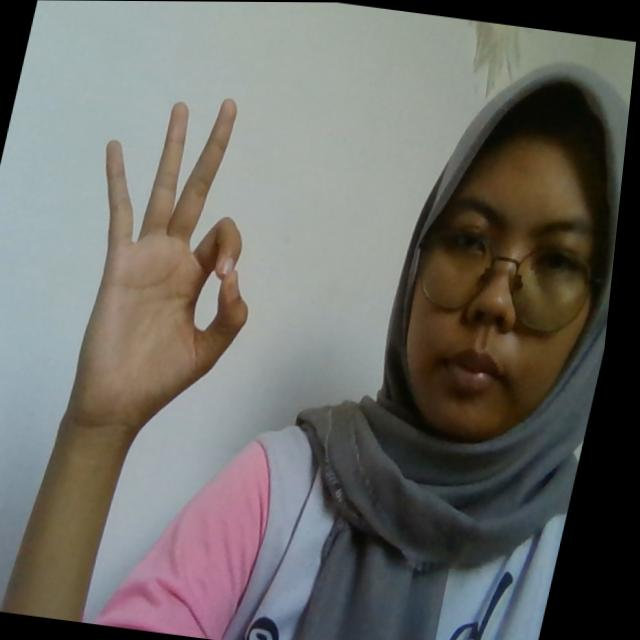F: (54, 82, 301, 435)
